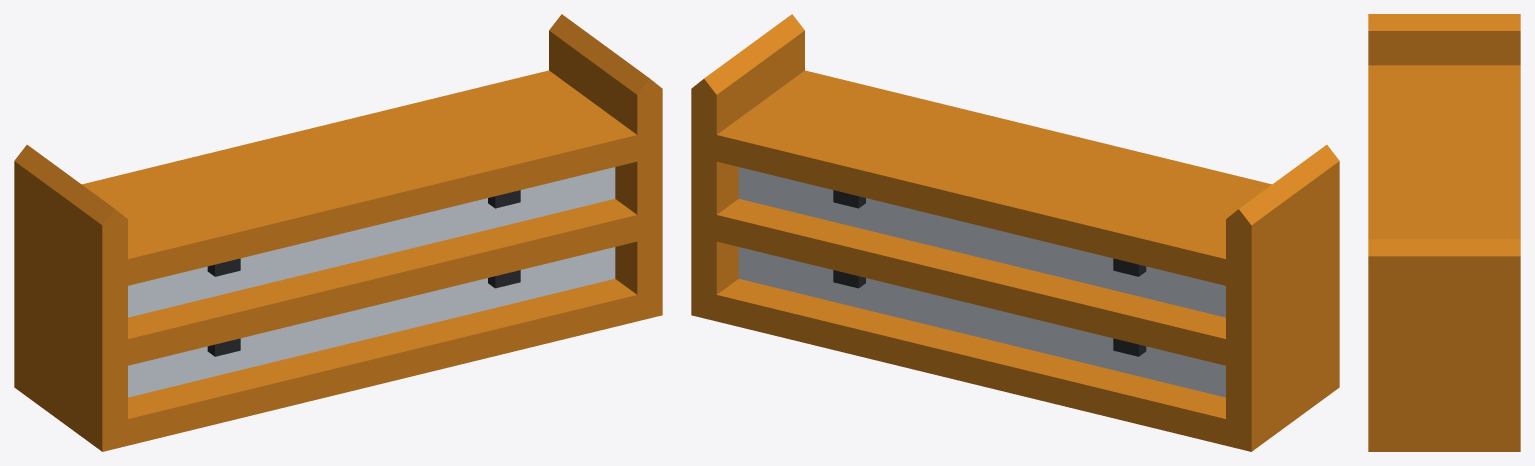
File: shelf-2.glb
3 renders of one model, left to right at view 1: azimuth 30°, elevation 25°; view 2: azimuth 150°, elevation 25°; view 3: azimuth 270°, elevation 25°, orthographic. The views are drawn at different scales.
Visible parts, largest first — view 1: generated(Clone); view 2: generated(Clone); view 3: generated(Clone).
Boxes of the visible parts, left/top/right/bottom form: generated(Clone): left=14, top=14, right=662, bottom=451; generated(Clone): left=691, top=14, right=1339, bottom=451; generated(Clone): left=1368, top=14, right=1520, bottom=451.
Size of the model in its own units: 22 by 9 by 6.
